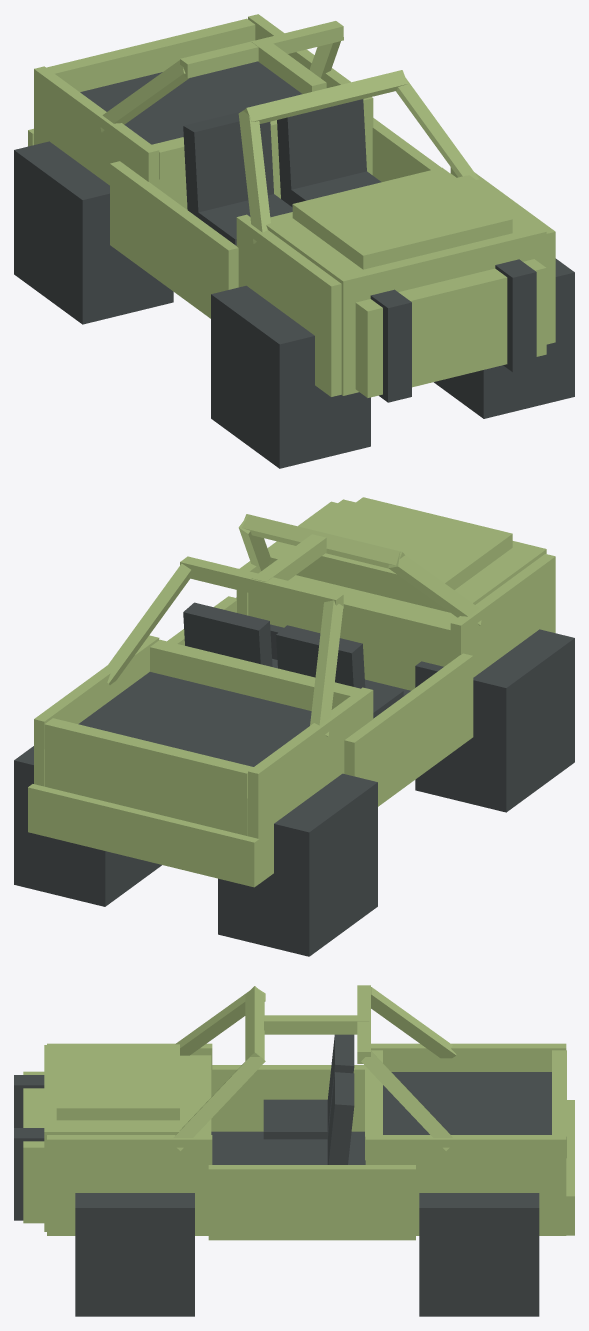
Rendered from car1.gltf.
3 renders of one model, top to bottom at view 1: azimuth 30°, elevation 25°; view 2: azimuth 150°, elevation 25°; view 3: azimuth 270°, elevation 25°, orthographic. The views are drawn at different scales.
Parts seen in each view (by area): view 1: Car1; view 2: Car1; view 3: Car1.
Boxes of the visible parts, left/top/right/bottom form: Car1: left=14, top=14, right=574, bottom=468; Car1: left=14, top=497, right=574, bottom=956; Car1: left=14, top=985, right=574, bottom=1316.
Bounding box in the file's own units: 2.93 × 2.55 × 5.52.
